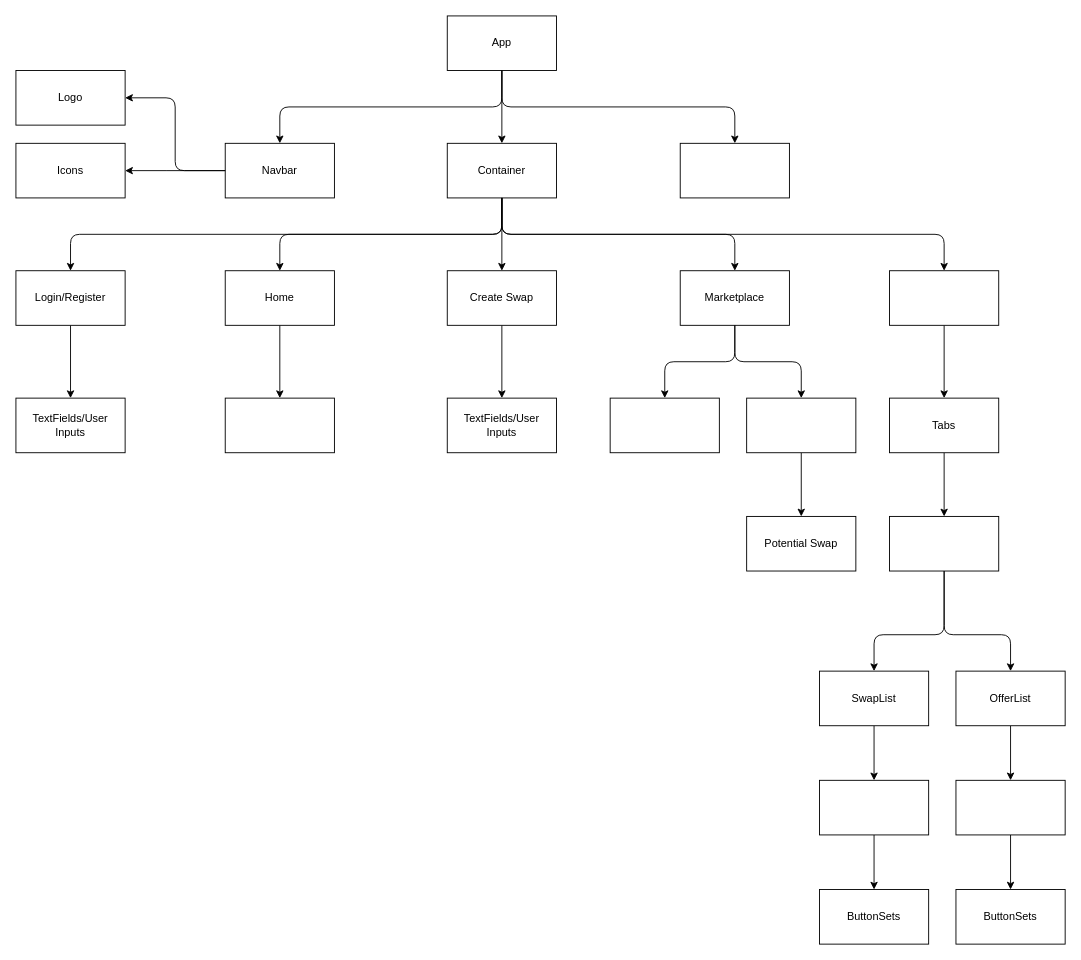
Image size: 1081x960. Some labels were removed from this diagram. Each missing label, with the box of its shape:
Footer: (679, 142, 789, 198)
Offer: (955, 779, 1065, 835)
Potential Swaps: (746, 397, 856, 453)
ReactPlayer: (224, 397, 334, 453)
Search Bar: (609, 397, 719, 453)
Swap: (819, 779, 929, 835)
Tab: (889, 516, 999, 571)
Your Swap and Offers: (889, 270, 999, 325)
